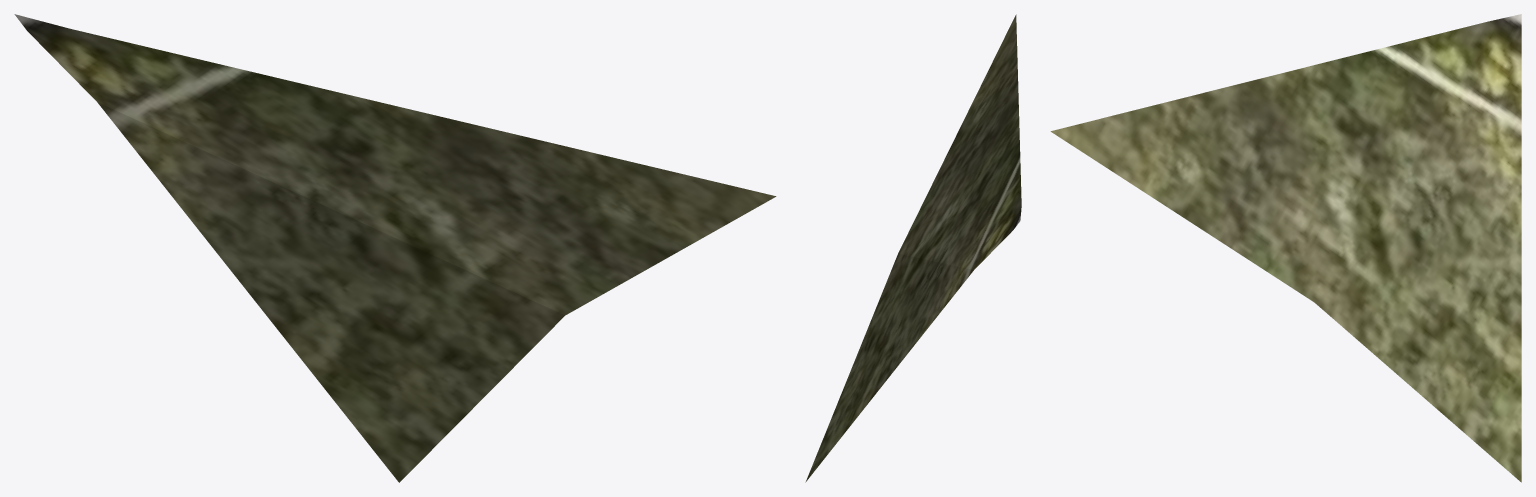
3 renders of one model, left to right at view 1: azimuth 30°, elevation 25°; view 2: azimuth 150°, elevation 25°; view 3: azimuth 270°, elevation 25°, orthographic. The views are drawn at different scales.
Bounding box in the file's own units: 1.01 × 1.41 × 1.72.
Materials: 1 (1 with a texture image).
